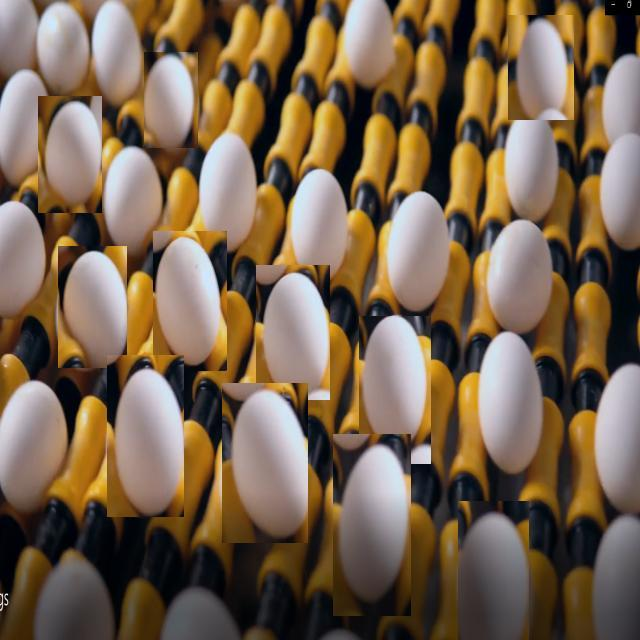Egg: (334, 434, 412, 616), (222, 383, 308, 543), (107, 355, 184, 517), (476, 329, 548, 486), (1, 372, 74, 521), (359, 316, 432, 464), (153, 231, 227, 371), (256, 265, 330, 400), (458, 501, 529, 640), (382, 188, 459, 315), (485, 218, 563, 338), (287, 163, 363, 280), (58, 246, 127, 368), (202, 130, 271, 252), (105, 136, 166, 262), (38, 96, 102, 213), (508, 100, 566, 227), (508, 15, 574, 120), (89, 3, 148, 111), (0, 195, 49, 324), (337, 3, 408, 90), (3, 67, 51, 190), (144, 53, 198, 148)
